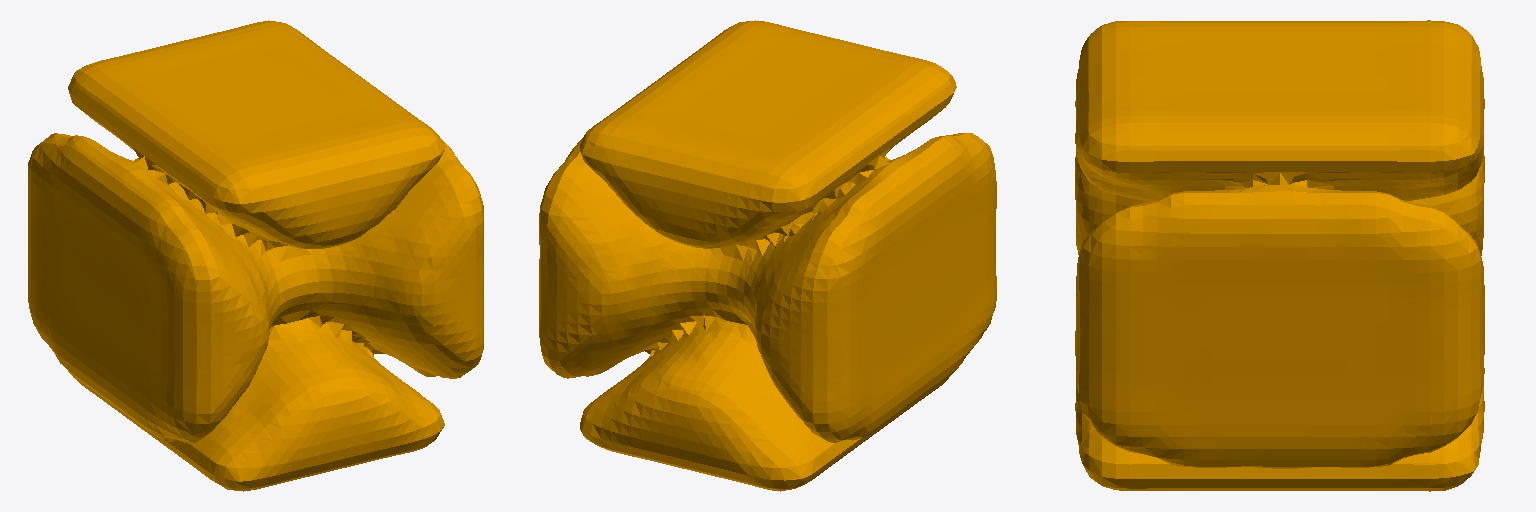
robot.urdf — object:
<?xml version="1.0"?>
        <robot name="object">
          <link name="object">
            <visual>
              <origin xyz="0.0 0.0 0.0"/>
              <geometry>
                <mesh filename="D2.stl" scale="1.00 1.00 1.00"/>
              </geometry>
            </visual>
            <collision>
              <origin xyz="0.0 0.0 0.0"/>
              <geometry>
                <mesh filename="D2.stl" scale="1.00 1.00 1.00"/>
              </geometry>
            </collision>
          </link>
        </robot>

--- Render facts (derived) ---
The picture shows the robot from 3 angles, left to right: view 1: azimuth 30°, elevation 25°; view 2: azimuth 150°, elevation 25°; view 3: azimuth 270°, elevation 25°; orthographic projection.
Model object with 1 links and 0 joints (none), rooted at object, posed every joint at zero.
Visible links, largest first — view 1: object; view 2: object; view 3: object.
Link boxes in pixels (x1,y1,x2,y2): object: (28, 20, 483, 491); object: (539, 20, 996, 491); object: (1075, 20, 1484, 491).
Bounding box of the posed robot: 0.0999 × 0.1 × 0.0998 m (x, y, z).
Meshes: 1 distinct files referenced, 1 mesh visuals loaded (1 binary STL).